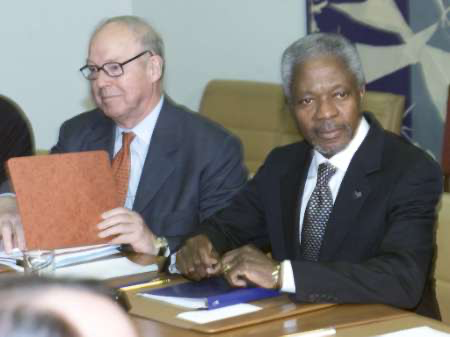Face: (80, 28, 142, 124), (293, 62, 356, 149)
